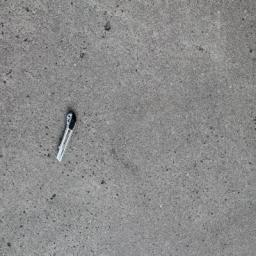FOD: (54, 107, 81, 165)
